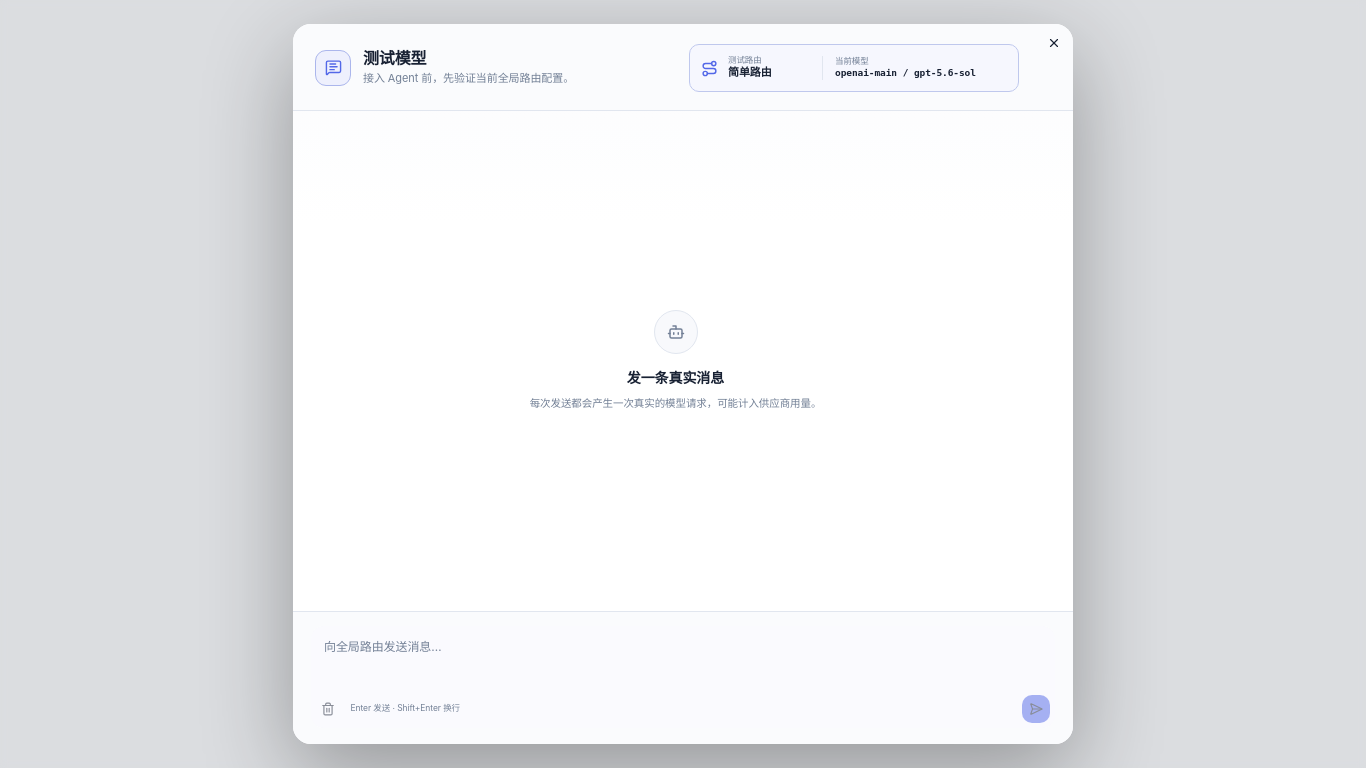
Test: ModelTestConsole › keeps a request active when cancellation fails and continues rendering deltas
Type "继续生成" into the text box labelled "消息".
click(683, 658); type("继续生成")  # box top-left (311, 626), bottom-right (1055, 690)
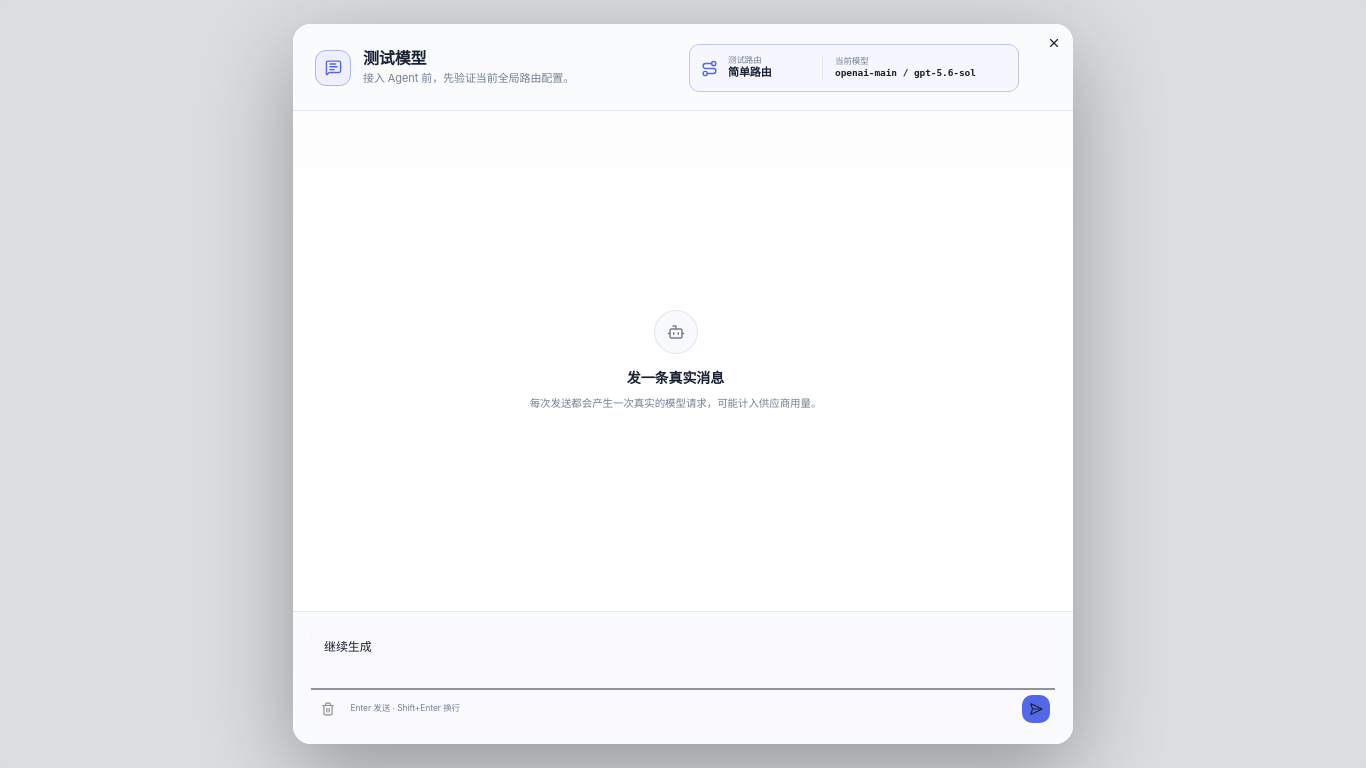
Press Enter
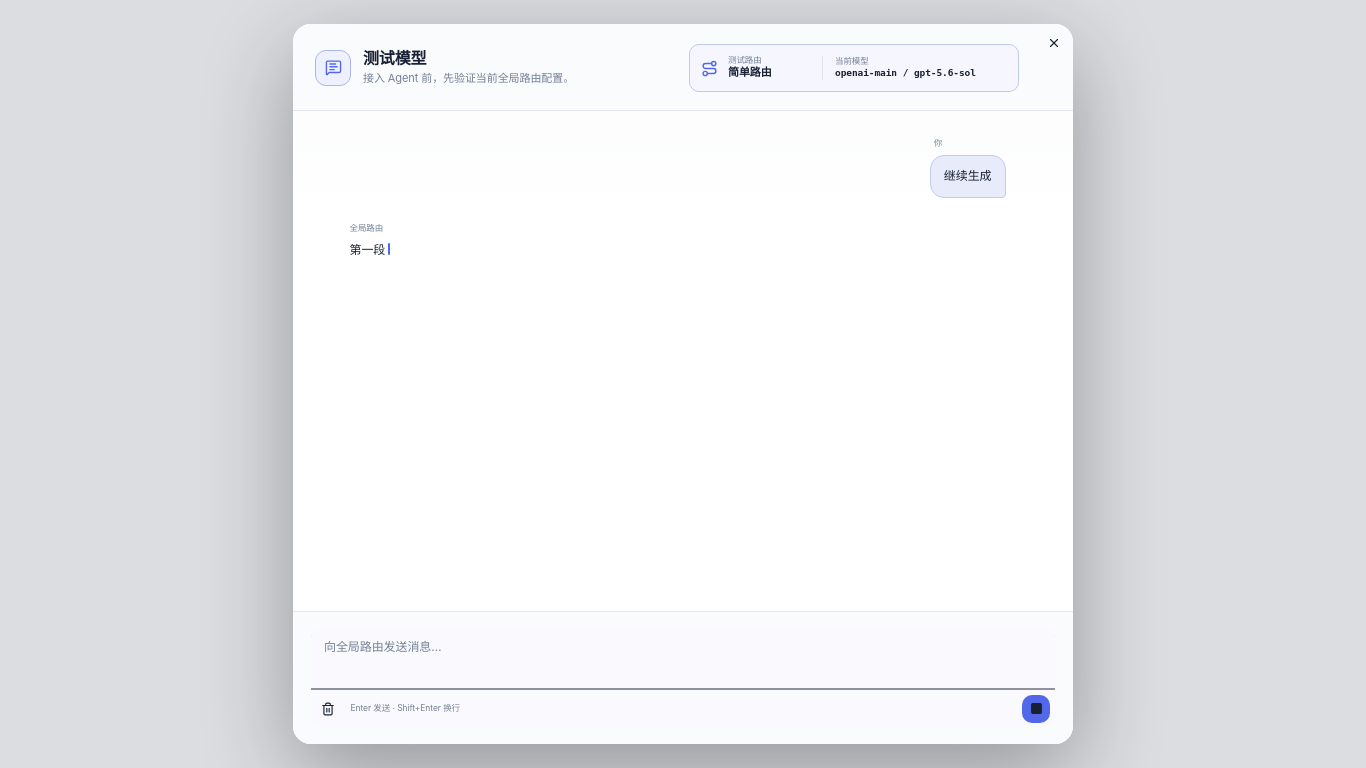
Now the text "第一段" is shown, box top-left (350, 242), bottom-right (390, 257)
Click the button named "停止生成".
click(1036, 708)  # box top-left (1022, 694), bottom-right (1050, 722)
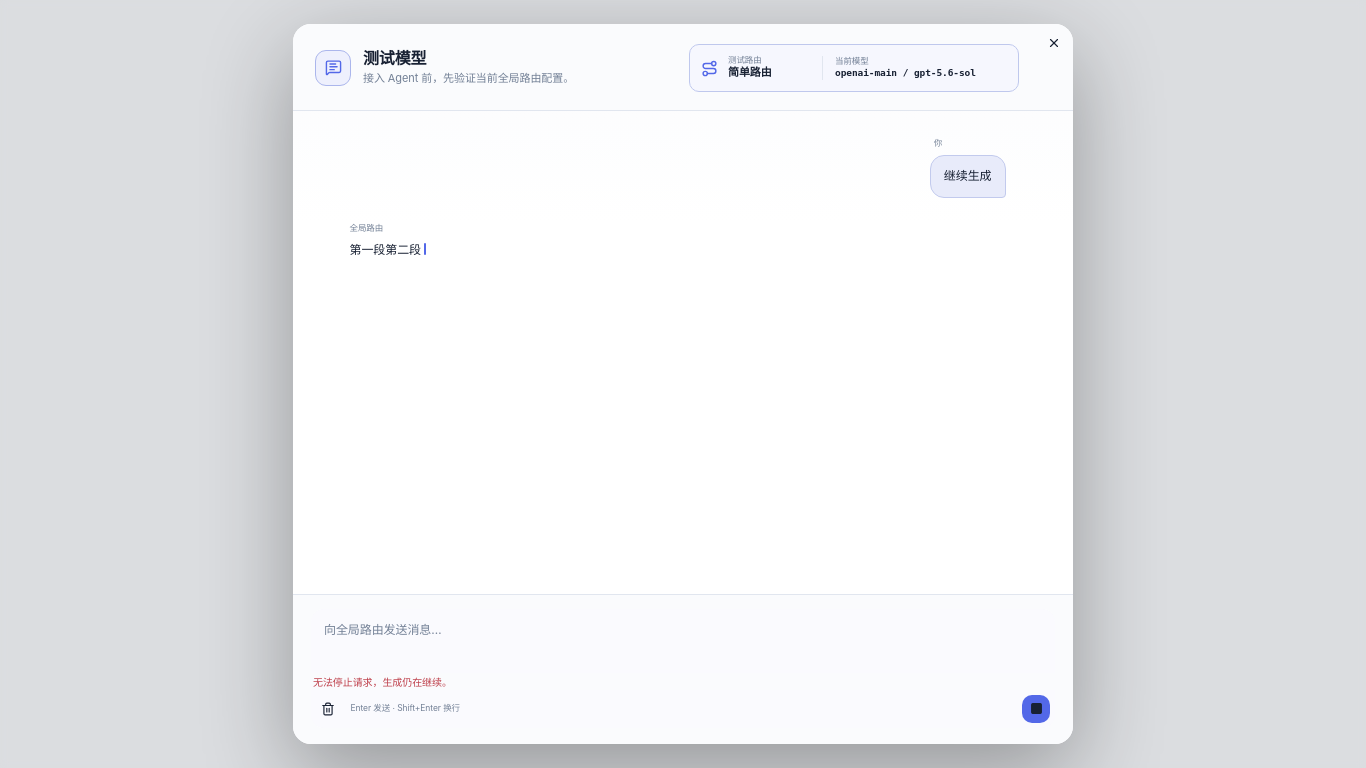
Now the button named "停止生成" is shown, box top-left (1022, 694), bottom-right (1050, 722)
Now the message shows "无法停止请求，生成仍在继续", box top-left (313, 676), bottom-right (452, 688)
Now the text "第一段第二段" is shown, box top-left (350, 242), bottom-right (426, 257)
